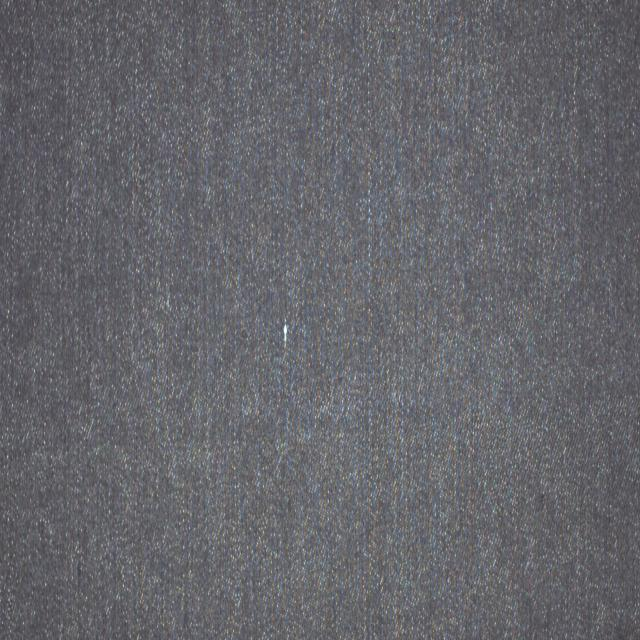Knot: (283, 320, 289, 348)
